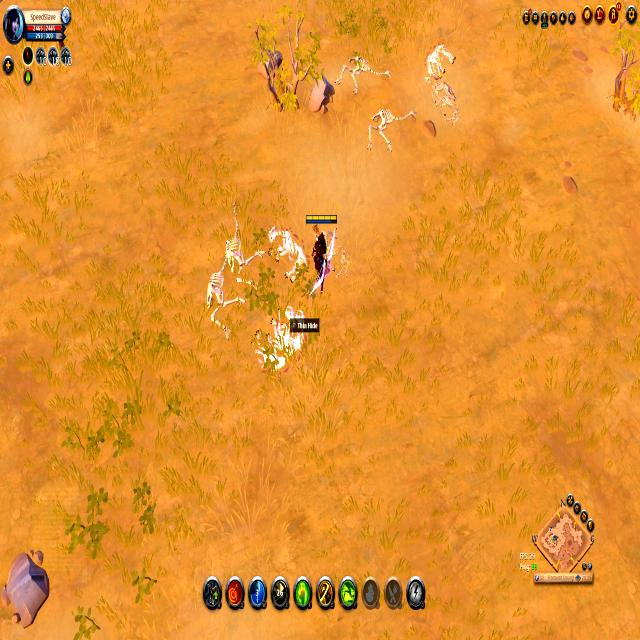red: (305, 210, 338, 278)
